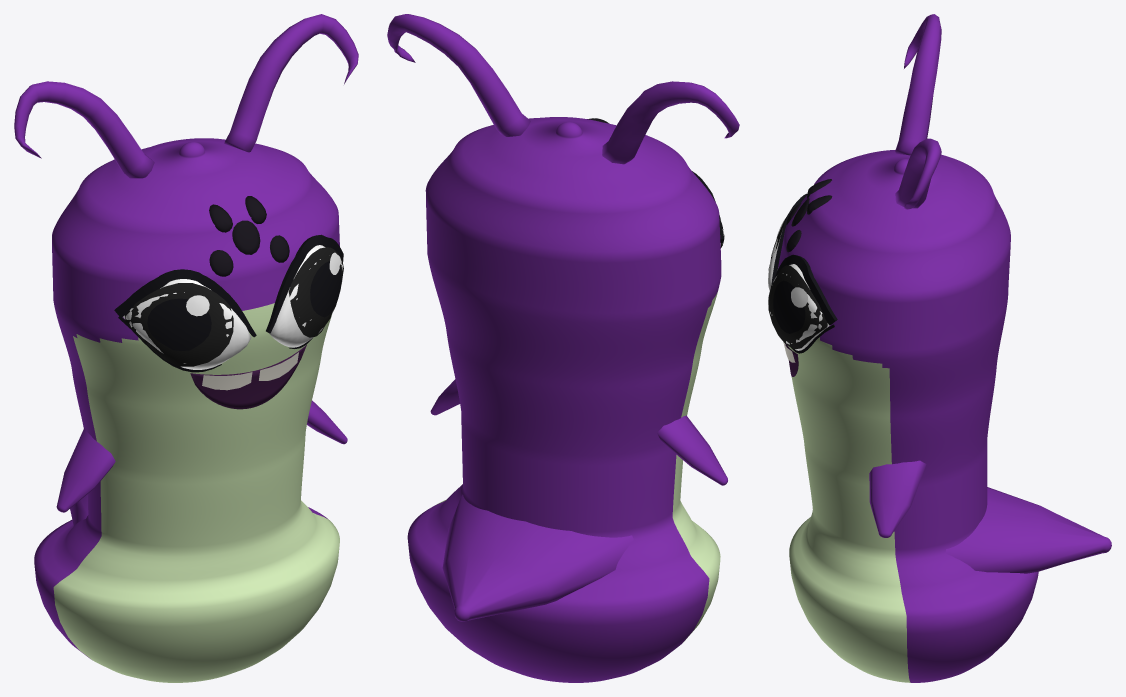
File: arachnet.fbx
3 renders of one model, left to right at view 1: azimuth 30°, elevation 25°; view 2: azimuth 150°, elevation 25°; view 3: azimuth 270°, elevation 25°, orthographic. The views are drawn at different scales.
Visible parts, largest first — view 1: Slug_arachnet; view 2: Slug_arachnet; view 3: Slug_arachnet.
Part boxes in pixels (x1=…): Slug_arachnet: x1=14, y1=14, x2=358, y2=682; Slug_arachnet: x1=387, y1=14, x2=739, y2=682; Slug_arachnet: x1=768, y1=14, x2=1111, y2=682.
Bounding box in the file's own units: 0.4472 × 0.7648 × 0.4075.
